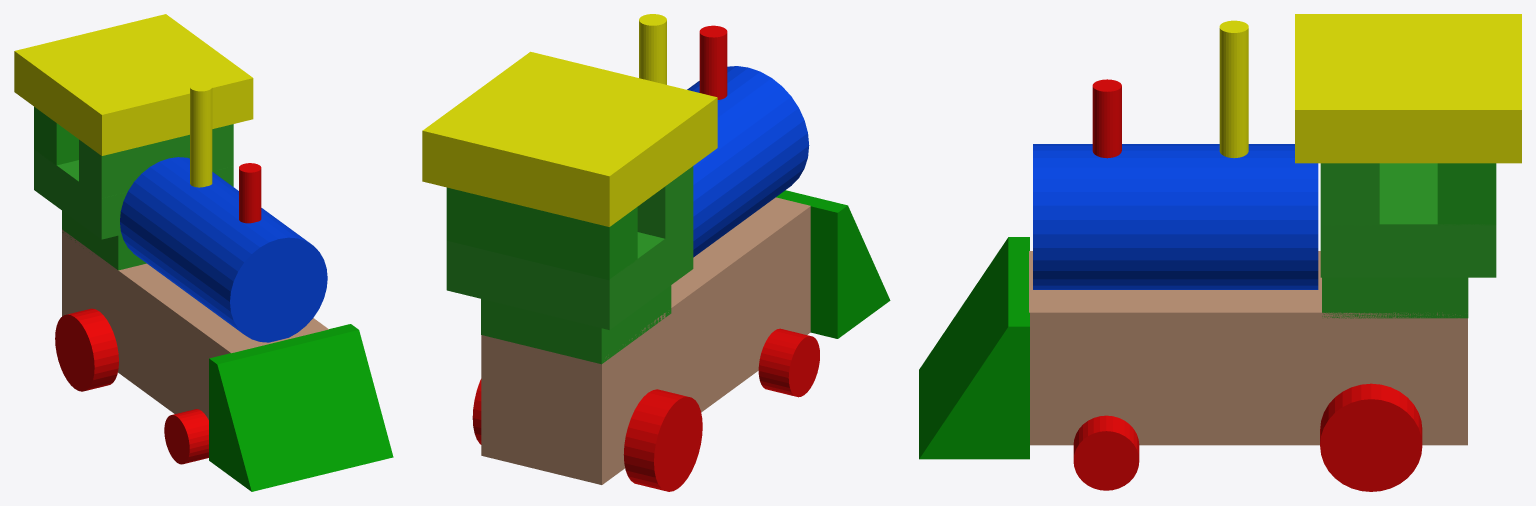
File: woodentrain (1).fbx
3 renders of one model, left to right at view 1: azimuth 30°, elevation 25°; view 2: azimuth 150°, elevation 25°; view 3: azimuth 270°, elevation 25°, orthographic. The views are drawn at different scales.
Visible parts, largest first — view 1: Cube.001, Cylinder, Cube.006, Cube, Cube.005, Cylinder.004, Cube.003, Cylinder.006, Cylinder.001, Cube.002, Cube.004, Cylinder.005; view 2: Cube, Cube.006, Cylinder, Cube.003, Cube.004, Cube.001, Cube.002, Cylinder.004, Cylinder.001, Cube.005, Cylinder.005, Cylinder.006; view 3: Cube, Cylinder, Cube.006, Cube.001, Cube.003, Cylinder.003, Cube.002, Cylinder.002, Cylinder.006, Cube.004, Cube.005, Cylinder.005.
Boxes of the visible parts, x1,y1,x2,y2 form: Cube.001: (209, 324, 393, 491); Cylinder: (120, 157, 327, 342); Cube.006: (14, 14, 253, 155); Cube: (62, 229, 328, 419); Cube.005: (79, 124, 233, 198); Cylinder.004: (55, 308, 118, 391); Cube.003: (34, 149, 233, 239); Cylinder.006: (190, 82, 212, 187); Cylinder.001: (164, 409, 208, 464); Cube.002: (62, 211, 146, 270); Cube.004: (34, 107, 78, 165); Cylinder.005: (239, 163, 261, 223); Cube: (481, 197, 810, 484); Cube.006: (422, 51, 717, 226); Cylinder: (687, 66, 809, 257); Cube.003: (446, 218, 693, 329); Cube.004: (446, 187, 637, 280); Cube.001: (776, 190, 890, 338); Cube.002: (481, 285, 671, 364); Cylinder.004: (623, 389, 702, 491); Cylinder.001: (758, 328, 819, 397); Cube.005: (637, 166, 693, 238); Cylinder.005: (699, 25, 727, 99); Cylinder.006: (639, 14, 666, 84); Cube: (1029, 251, 1467, 445); Cylinder: (1033, 144, 1318, 289); Cube.006: (1295, 14, 1521, 163); Cube.001: (919, 237, 1029, 459); Cube.003: (1320, 163, 1496, 277); Cylinder.003: (1320, 383, 1422, 491); Cube.002: (1322, 277, 1468, 318); Cylinder.002: (1073, 415, 1139, 490); Cylinder.006: (1219, 20, 1248, 158); Cube.004: (1437, 163, 1496, 225); Cube.005: (1320, 163, 1379, 225); Cylinder.005: (1092, 79, 1121, 158).
Bounding box in the file's own units: 310 × 632 × 824.
